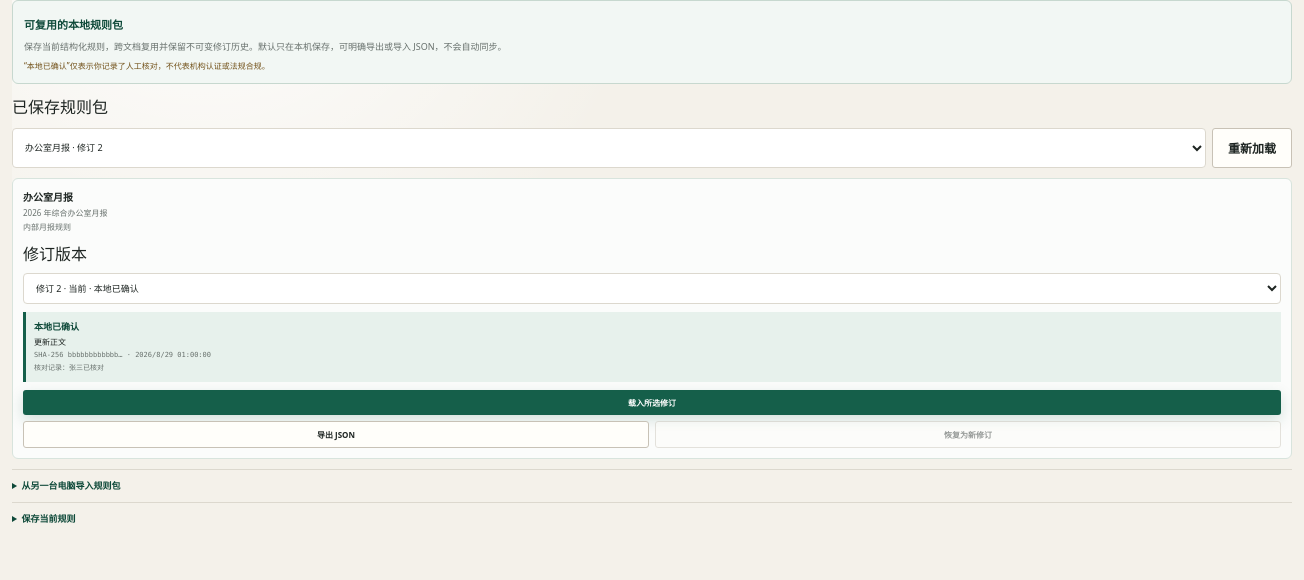
RulePackLibrary › loads an old revision and restores it without overwriting history
Expected: the text "办公室月报" is shown, [23, 190, 73, 204]
Select "修订 1 · 草稿" in the dropdown labelled "修订版本" at (652, 288), box [23, 273, 1281, 304]
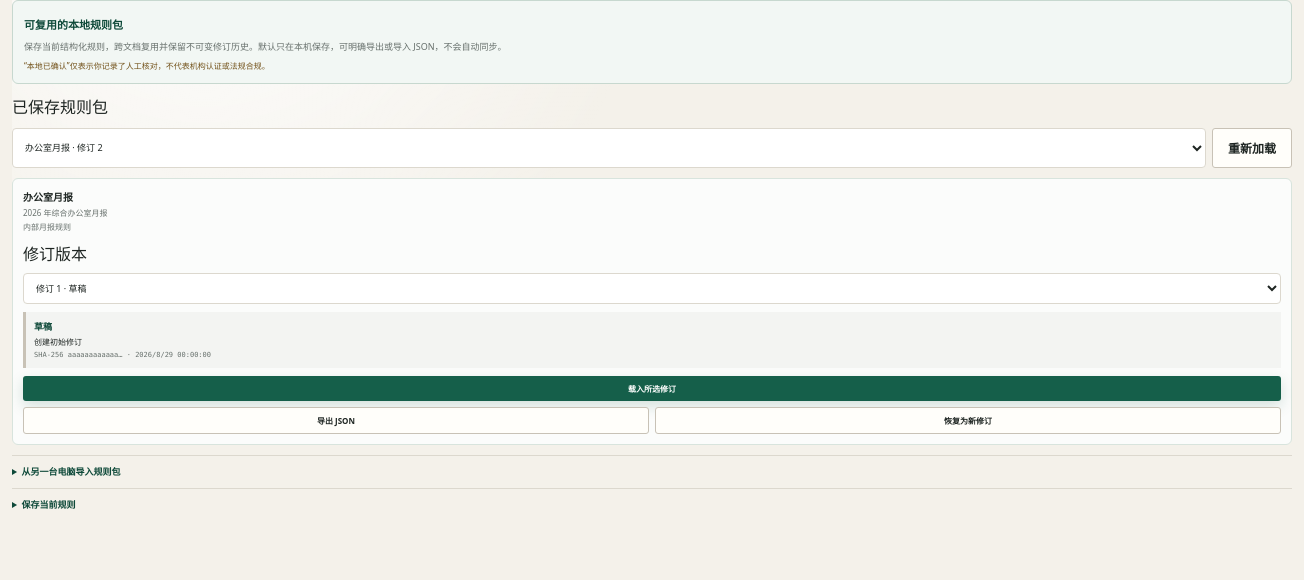
Click the button "载入所选修订" at (652, 389), box [23, 376, 1281, 402]
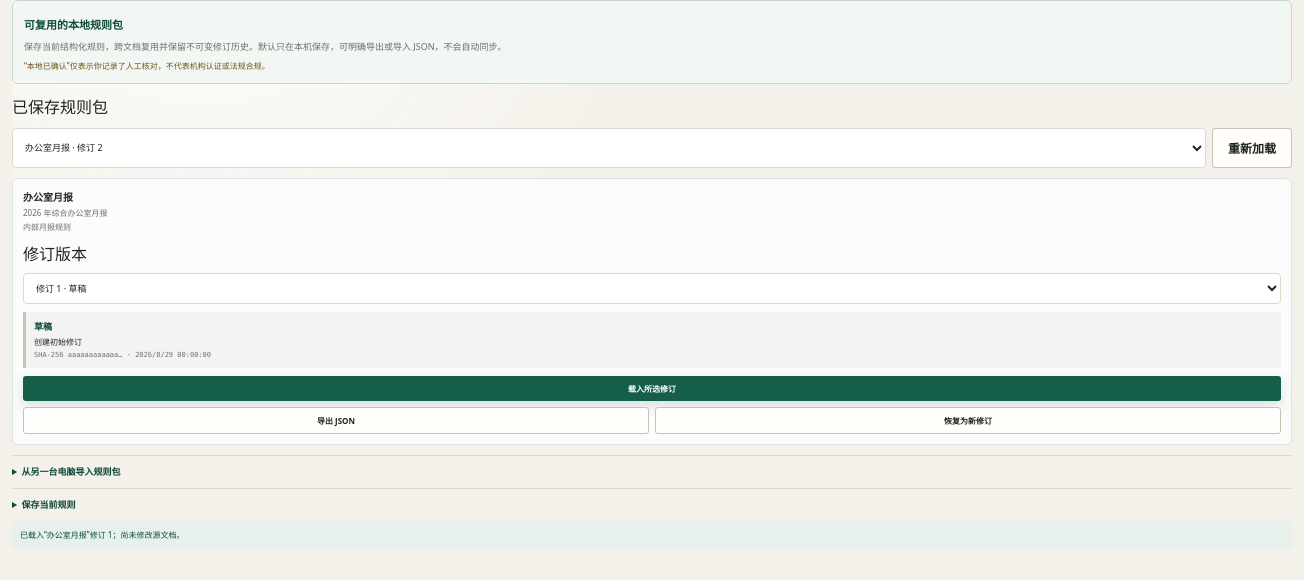
Now the link "导出 JSON" has attribute href="/api/v1/rule-packs/pack_1/versions/1/export", box [23, 408, 649, 434]
Click the button "恢复为新修订" at (968, 421), box [655, 408, 1281, 434]
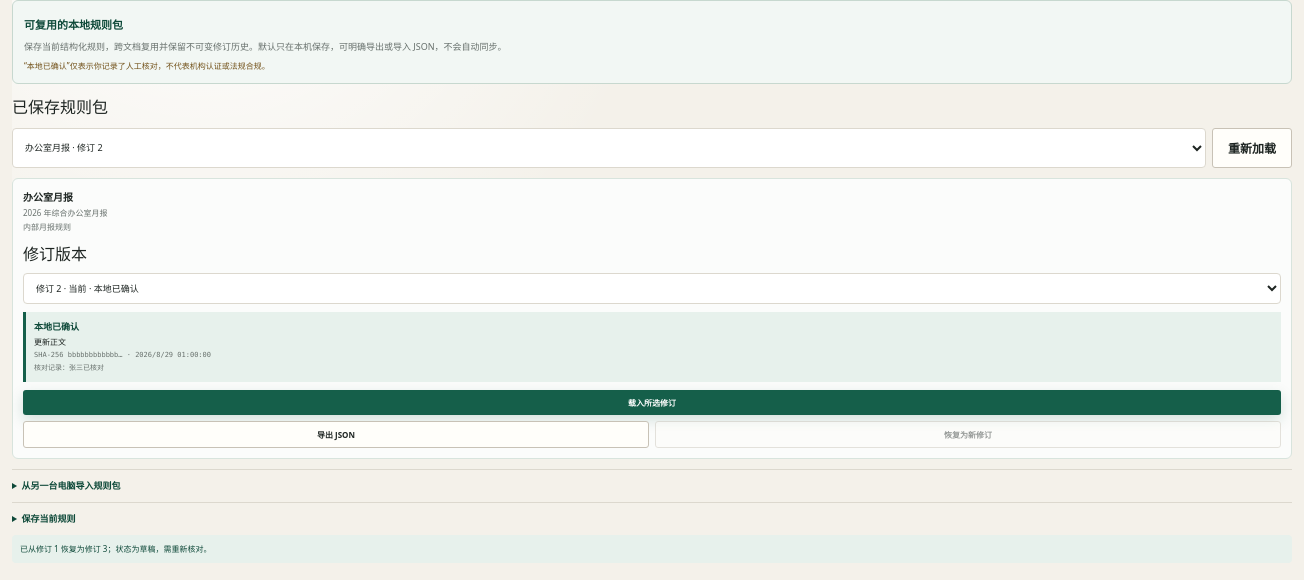
Now the text "已从修订 1 恢复为修订 3；状态为草稿，需重新核对。" is shown, box [12, 535, 1292, 563]
